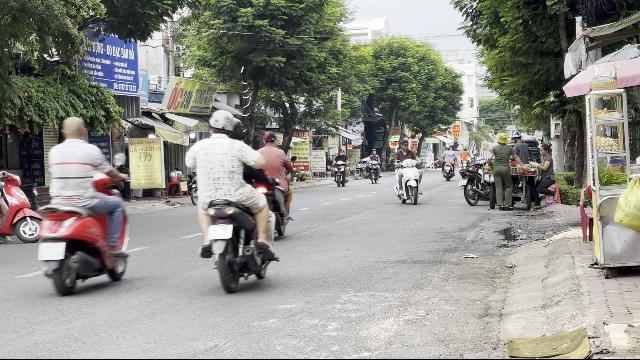helmet: (207, 108, 237, 138), (230, 116, 244, 140)
licenseplate: (38, 242, 66, 260), (208, 225, 232, 239)
motorcyclist: (186, 107, 282, 292), (33, 114, 131, 294)
nohelmet: (59, 116, 87, 140), (262, 131, 276, 146)
